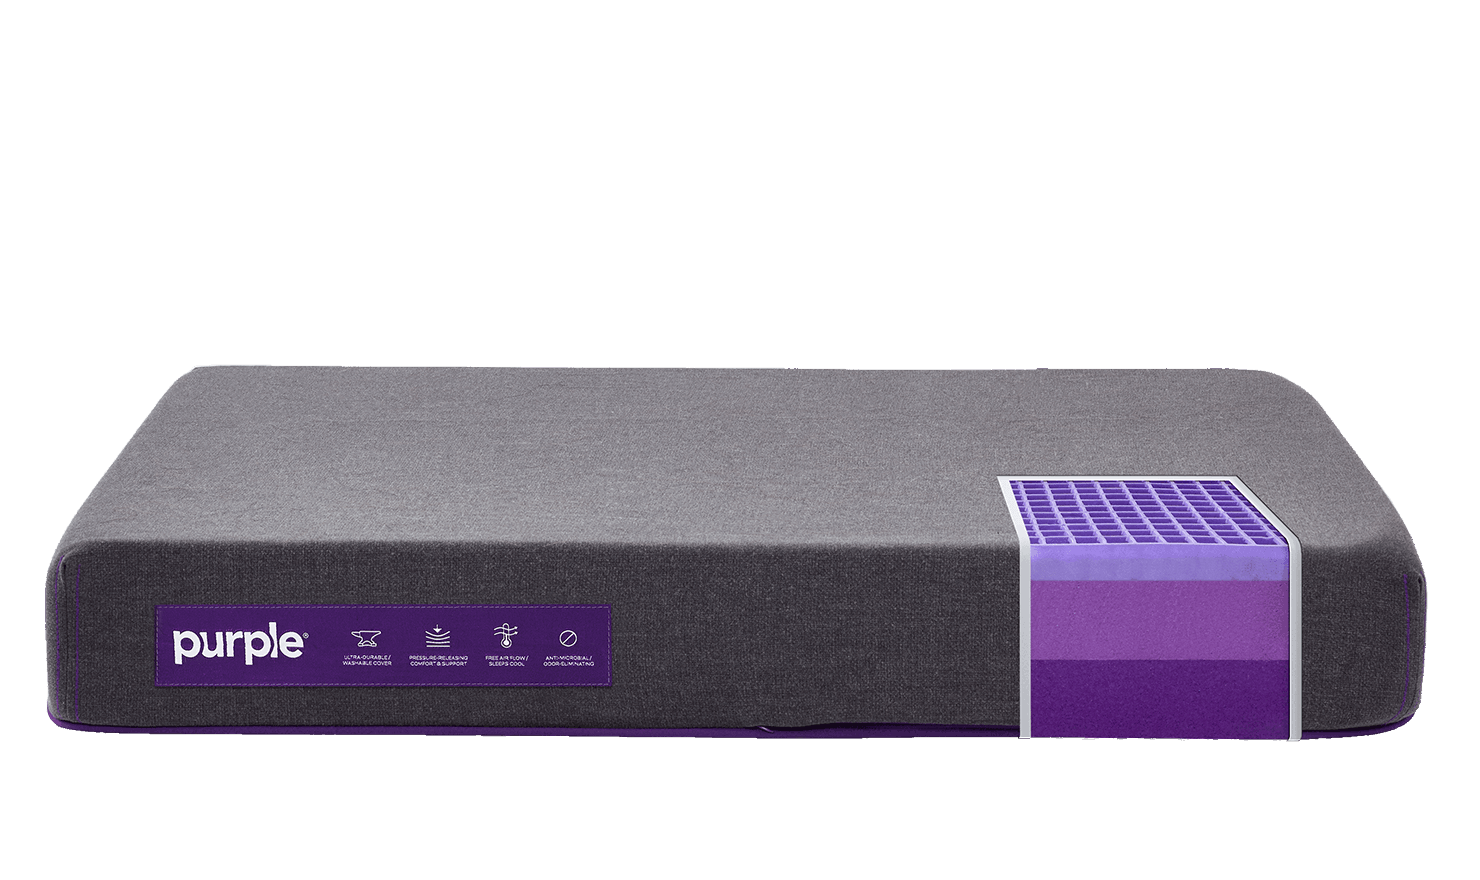bed: (39, 343, 1480, 802)
